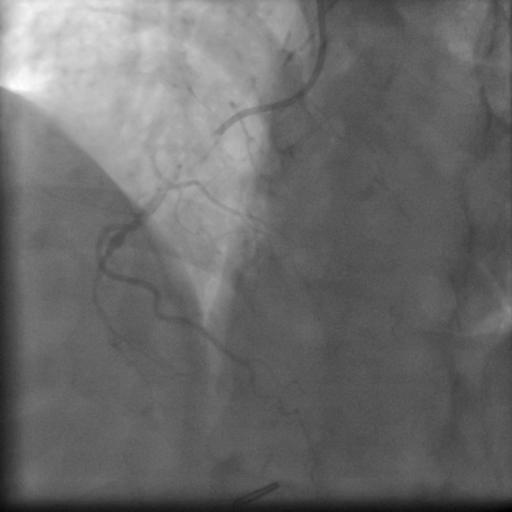Stenosis: (170, 128, 220, 173)
